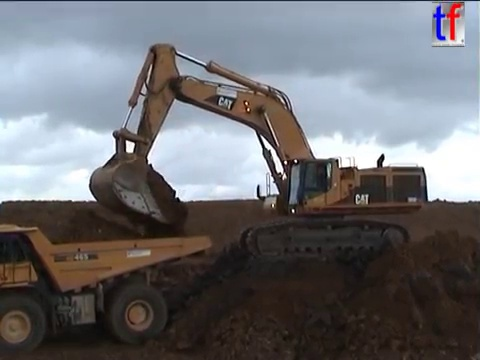excavator: (85, 40, 431, 263)
truck: (1, 221, 213, 357)
